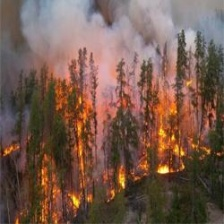fire: (49, 79, 193, 208)
smoke: (2, 1, 219, 73)
